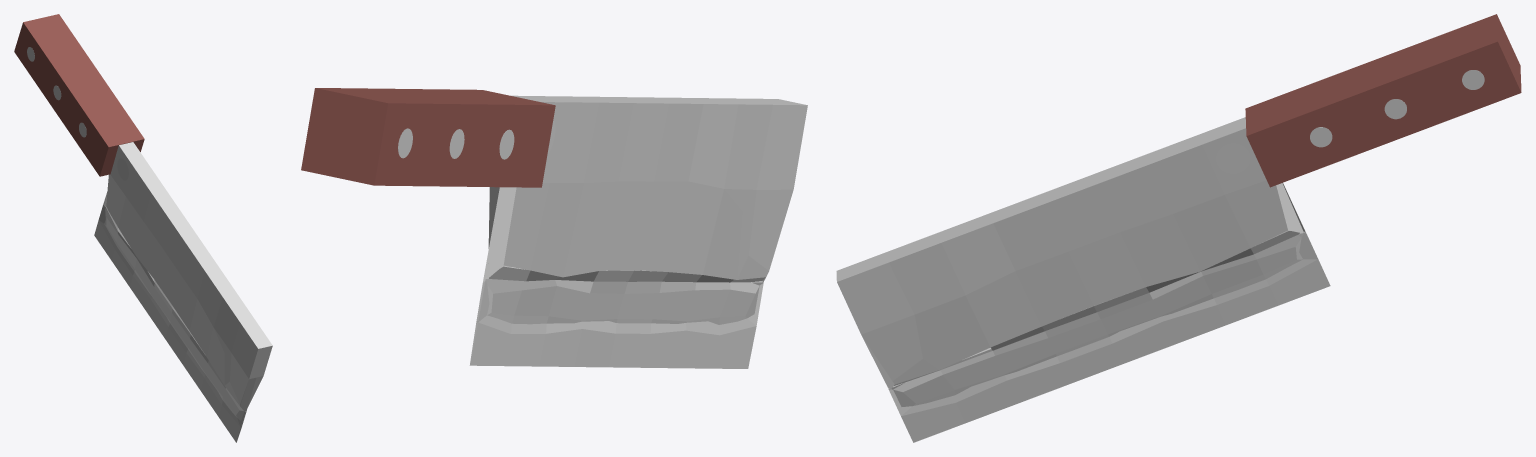
Rendered from knife.fbx.
3 views of the same model, side by side, from view 1: azimuth 30°, elevation 25°; view 2: azimuth 150°, elevation 25°; view 3: azimuth 270°, elevation 25° (orthographic). The views are drawn at different scales.
Parts seen in each view (by area): view 1: 큐브.002; view 2: 큐브.002; view 3: 큐브.002.
Part boxes in pixels (box(x1,y1,x2,y2)): 큐브.002: box(14, 14, 272, 442); 큐브.002: box(301, 88, 807, 368); 큐브.002: box(836, 14, 1521, 442).
Bounding box in the file's own units: 24.57 × 172 × 257.
